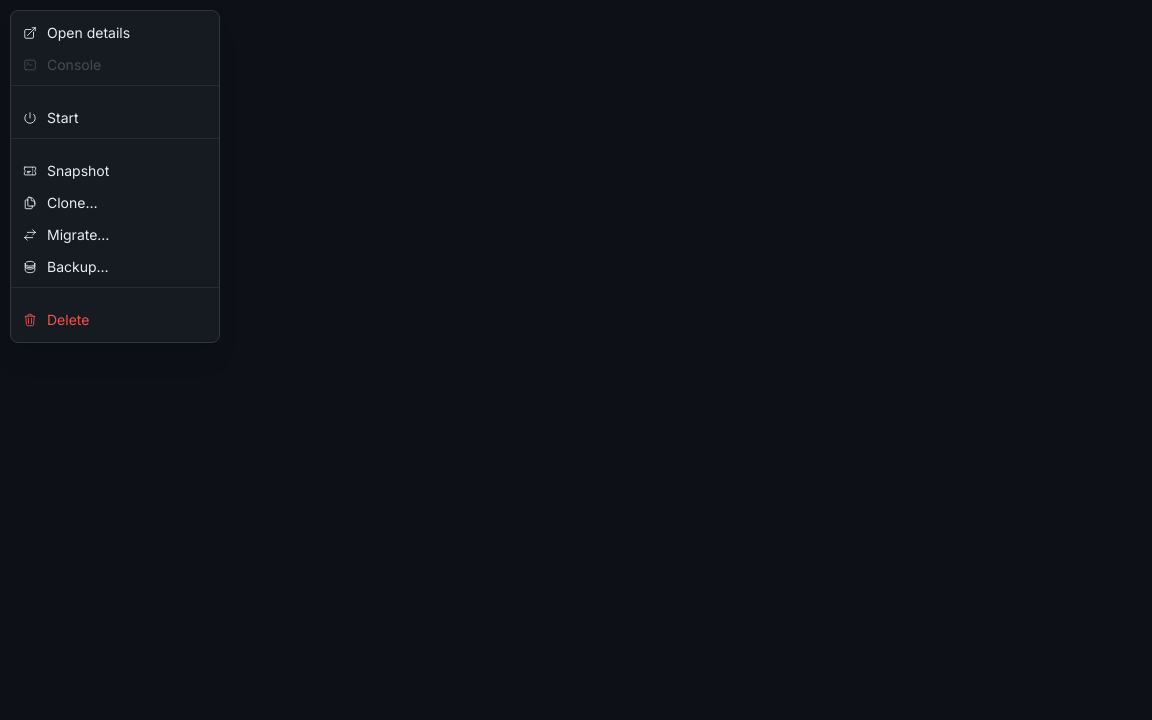
ResourceContextMenu (StrictMode=true) › VM backup opens its modal
This screenshot has width=1152, height=720.
Step 1. Click the menu item "Backup…" → coordinates (115, 267), box [11,251,219,283]
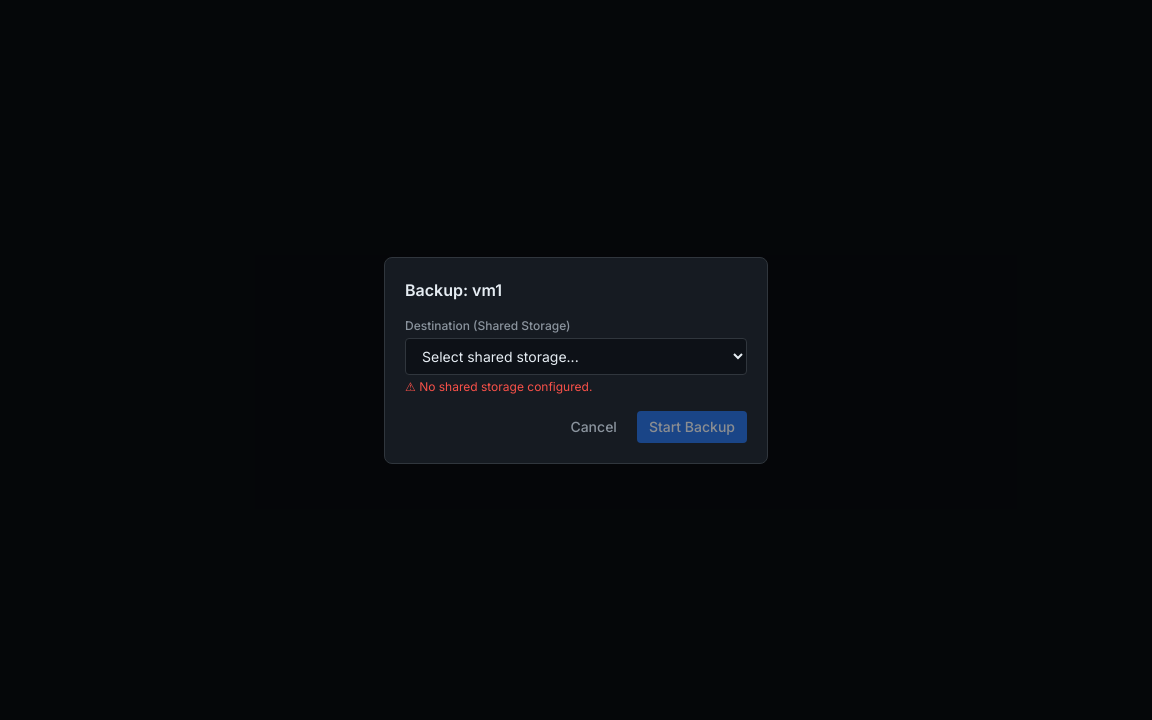
Check: the heading "Backup: vm1" is shown, box [405,280,502,300]
